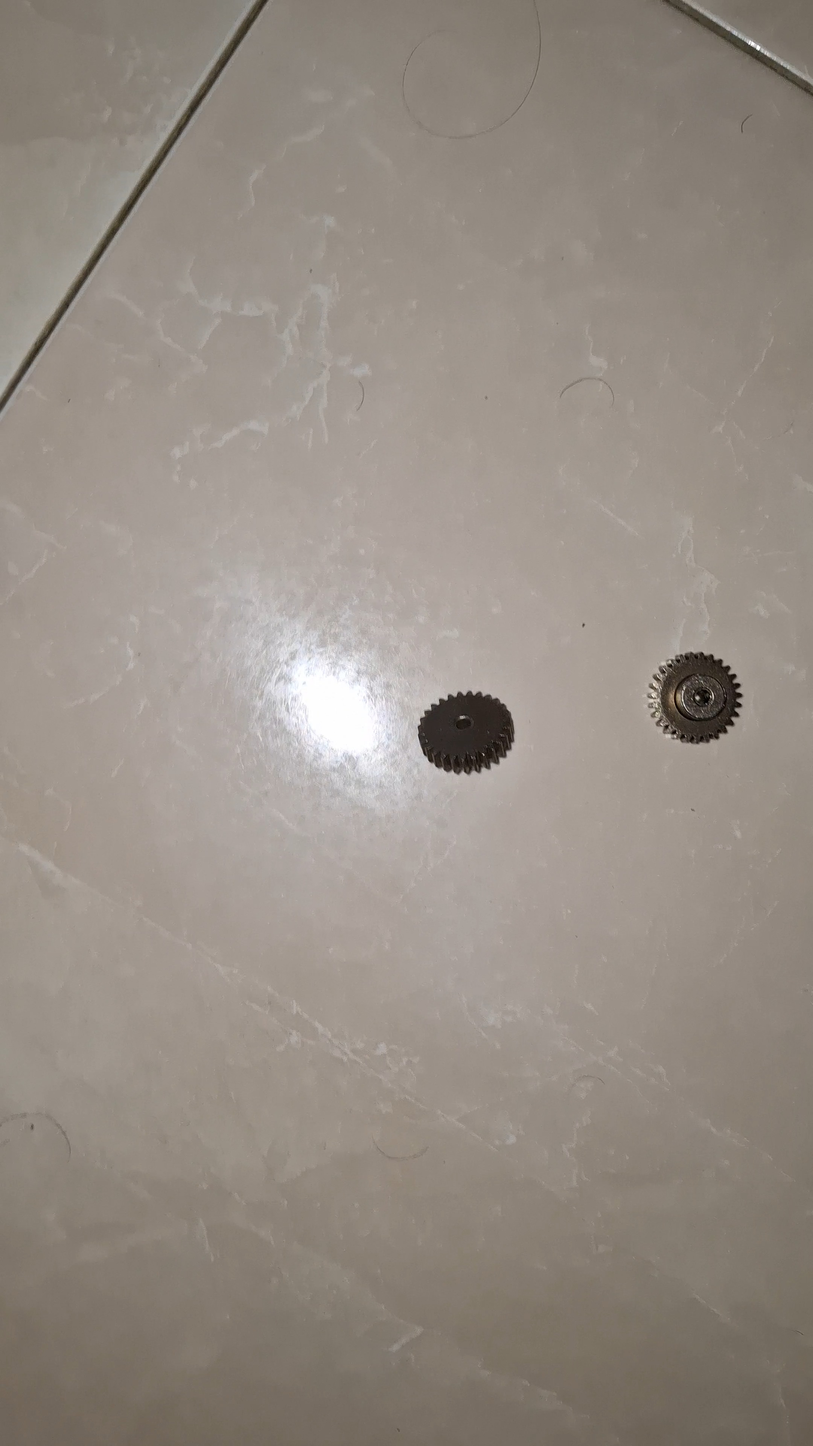spur gear: (648, 653, 741, 743), (418, 692, 514, 773)
